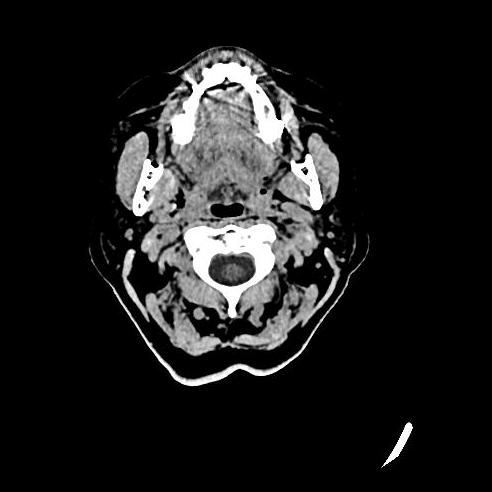Normal_Brain: (91, 22, 380, 393)
